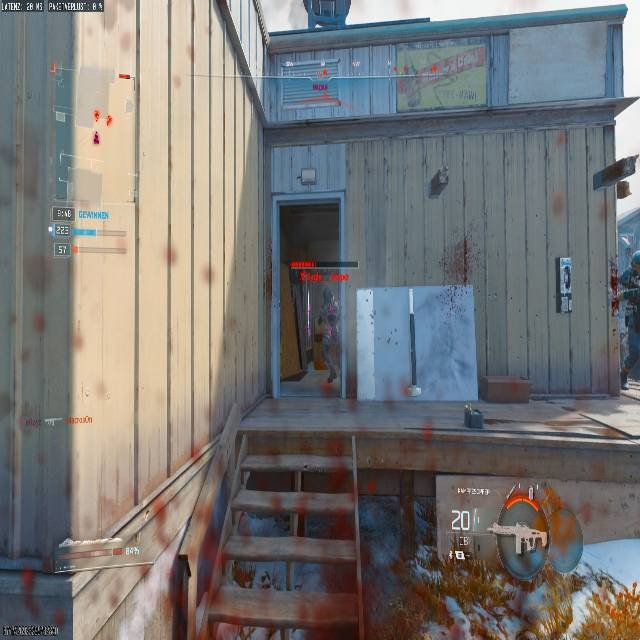head: (495, 482, 583, 577), (631, 252, 640, 271), (322, 286, 332, 301)
player: (415, 482, 610, 638), (619, 250, 640, 393), (312, 286, 340, 383)
